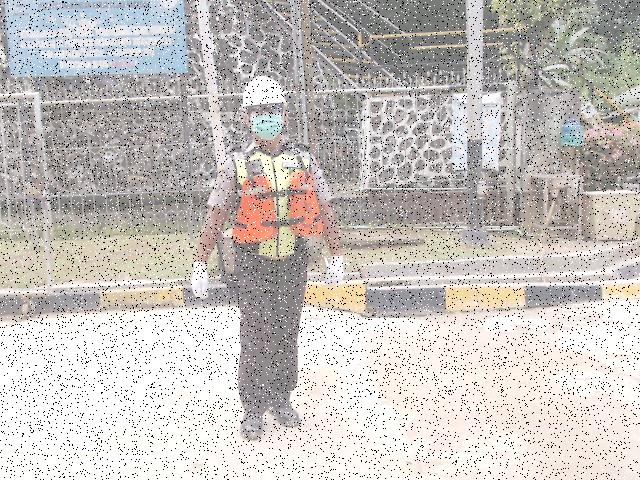glasses: (250, 105, 283, 116)
gloves: (190, 259, 211, 302), (323, 254, 346, 289)
helmet: (241, 73, 287, 105)
mask: (251, 116, 283, 140)
safety-shoes: (266, 402, 302, 431), (240, 407, 267, 441)
vest: (232, 169, 324, 245)
